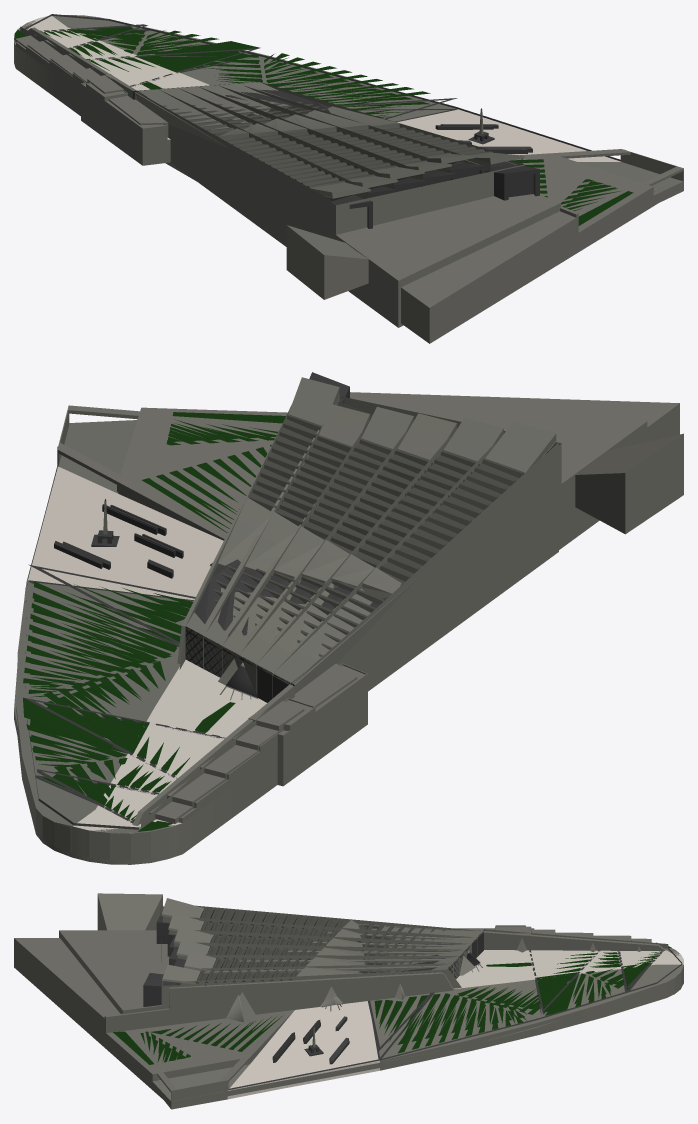
Rendered from 20250623_museum01.glb.
The picture shows the model from 3 angles, top to bottom: view 1: azimuth 30°, elevation 25°; view 2: azimuth 150°, elevation 25°; view 3: azimuth 270°, elevation 25°; orthographic projection. The views are drawn at different scales.
Parts seen in each view (by area): view 1: Plane.007, Plane, Plane.004, Plane.001, Plane.008, Plane.009, Plane.010, Plane.005, Plane.013, Plane.003, Plane.006, Plane.015 (+2 smaller); view 2: Plane.007, Plane, Plane.008, Plane.004, Plane.009, Plane.001, Plane.013, Plane.005, Plane.006, Plane.003, Plane.012, Plane.015 (+4 smaller); view 3: Plane.007, Plane, Plane.001, Plane.008, Plane.009, Plane.005, Plane.013, Plane.004, Plane.015, Plane.014, Plane.012, Plane.006 (+5 smaller).
Boxes of the visible parts, bbox=[...] form: Plane.007: bbox=[14, 15, 683, 327]; Plane: bbox=[14, 19, 683, 343]; Plane.004: bbox=[20, 26, 522, 246]; Plane.001: bbox=[14, 24, 633, 225]; Plane.008: bbox=[163, 99, 492, 187]; Plane.009: bbox=[138, 82, 524, 198]; Plane.010: bbox=[336, 164, 524, 234]; Plane.005: bbox=[160, 85, 490, 198]; Plane.013: bbox=[84, 30, 429, 117]; Plane.003: bbox=[15, 41, 167, 142]; Plane.006: bbox=[160, 92, 331, 197]; Plane.015: bbox=[551, 149, 683, 185]; Plane.007: bbox=[16, 396, 647, 864]; Plane: bbox=[14, 372, 683, 860]; Plane.008: bbox=[214, 414, 524, 656]; Plane.004: bbox=[141, 405, 558, 828]; Plane.009: bbox=[186, 377, 556, 684]; Plane.001: bbox=[23, 412, 285, 831]; Plane.013: bbox=[28, 596, 191, 825]; Plane.005: bbox=[203, 395, 495, 698]; Plane.006: bbox=[215, 434, 555, 660]; Plane.003: bbox=[178, 663, 367, 822]; Plane.012: bbox=[186, 443, 561, 696]; Plane.015: bbox=[57, 405, 139, 484]; Plane.007: bbox=[59, 930, 683, 1109]; Plane: bbox=[14, 893, 683, 1106]; Plane.001: bbox=[113, 942, 671, 1064]; Plane.008: bbox=[195, 907, 444, 983]; Plane.009: bbox=[161, 898, 483, 984]; Plane.005: bbox=[163, 916, 477, 976]; Plane.013: bbox=[374, 966, 646, 1053]; Plane.004: bbox=[162, 905, 668, 988]; Plane.015: bbox=[157, 1057, 250, 1101]; Plane.014: bbox=[228, 948, 682, 1089]; Plane.012: bbox=[160, 906, 471, 1005]; Plane.006: bbox=[371, 926, 449, 972].
Bounding box in the file's own units: 472 × 109 × 830.
